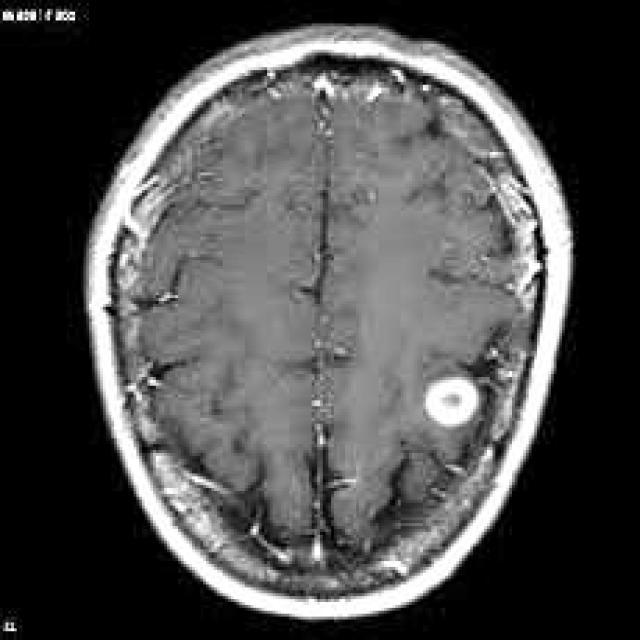Tumor: (426, 378, 480, 433)
